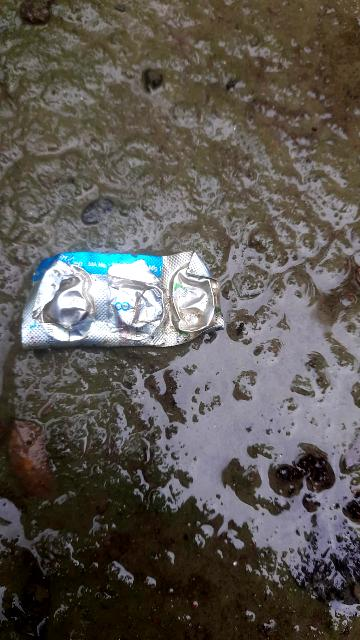medicine: (21, 250, 221, 355)
